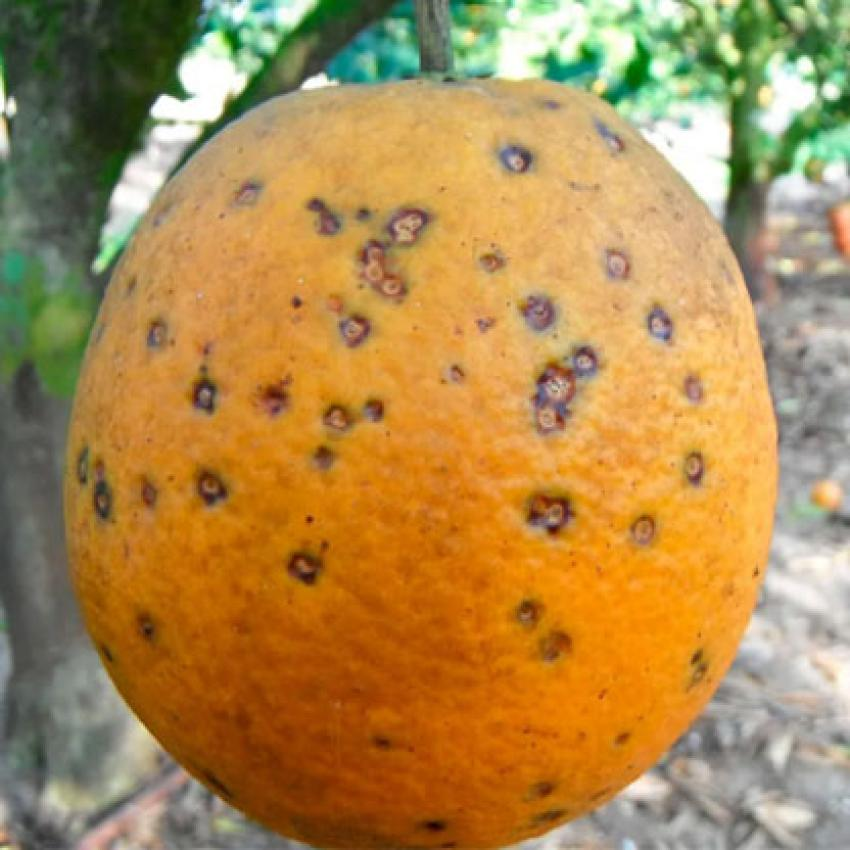Mal estado: (63, 70, 789, 850)
